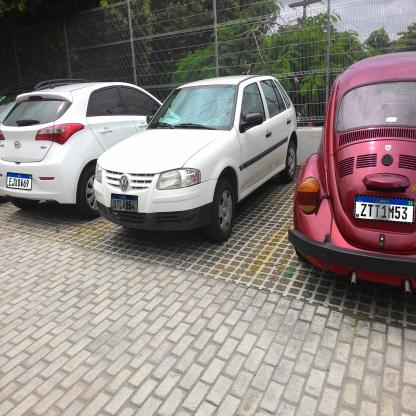PlacaM: (354, 194, 415, 224), (110, 193, 138, 213), (6, 172, 32, 190)
